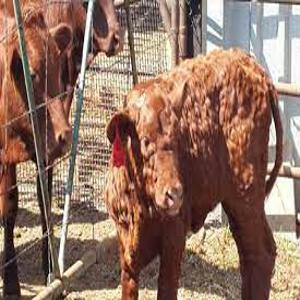lumpy skin diesease: (103, 46, 284, 299), (0, 0, 123, 299)
